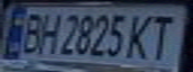2: (90, 10, 115, 58), (57, 9, 81, 56)
5: (106, 10, 133, 60)
7: (57, 10, 81, 56)
B: (15, 9, 48, 55)
H: (33, 9, 63, 55)
K: (124, 10, 160, 61)
T: (142, 10, 187, 61)
